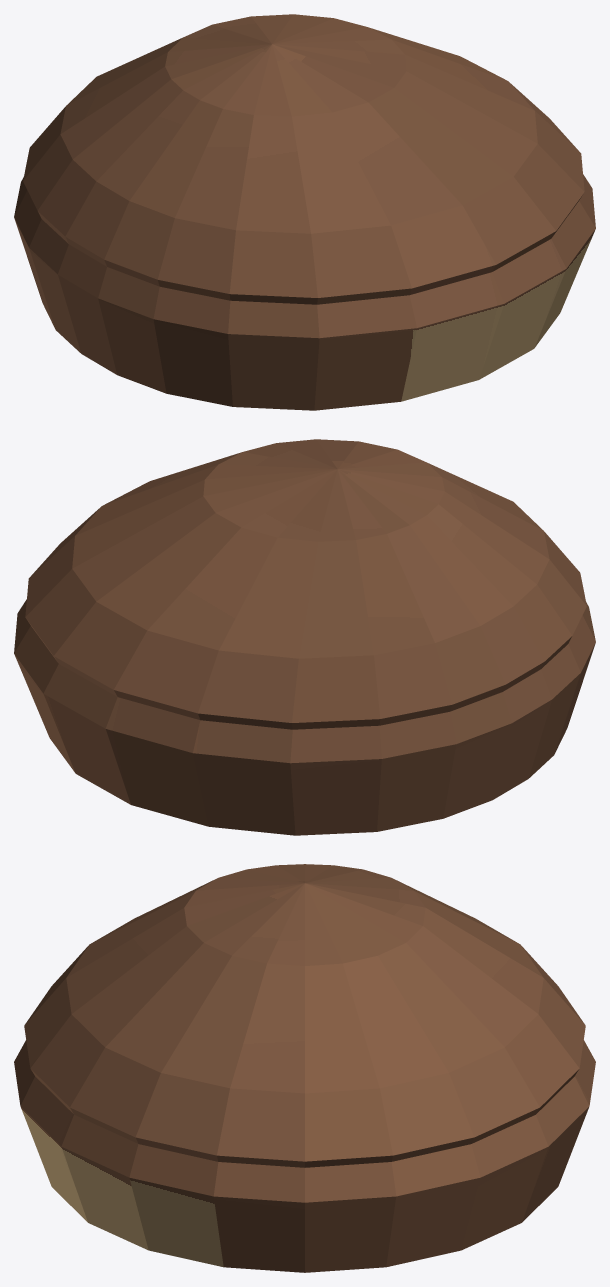
File: antique-kenzan-chestnut.glb
3 views of the same model, one above another, from view 1: azimuth 30°, elevation 25°; view 2: azimuth 150°, elevation 25°; view 3: azimuth 270°, elevation 25° (orthographic).
Visible parts, largest first — view 1: antique-kenzan-chestnut/lid-4, antique-kenzan-chestnut/lid-3, antique-kenzan-chestnut/vessel-2, antique-kenzan-chestnut/vessel-3, antique-kenzan-chestnut/lid-5, antique-kenzan-chestnut/lid-2; view 2: antique-kenzan-chestnut/lid-4, antique-kenzan-chestnut/lid-3, antique-kenzan-chestnut/vessel-2, antique-kenzan-chestnut/vessel-3, antique-kenzan-chestnut/lid-5, antique-kenzan-chestnut/lid-2; view 3: antique-kenzan-chestnut/lid-4, antique-kenzan-chestnut/lid-3, antique-kenzan-chestnut/vessel-2, antique-kenzan-chestnut/vessel-3, antique-kenzan-chestnut/lid-5, antique-kenzan-chestnut/lid-2.
Part boxes in pixels (x1,y1,x2,y2): antique-kenzan-chestnut/lid-4: (60, 27, 537, 233); antique-kenzan-chestnut/lid-3: (23, 82, 584, 297); antique-kenzan-chestnut/vessel-2: (14, 218, 595, 410); antique-kenzan-chestnut/vessel-3: (14, 174, 595, 338); antique-kenzan-chestnut/lid-5: (165, 14, 406, 116); antique-kenzan-chestnut/lid-2: (38, 195, 582, 304); antique-kenzan-chestnut/lid-4: (72, 452, 549, 658); antique-kenzan-chestnut/lid-3: (25, 507, 586, 722); antique-kenzan-chestnut/vessel-2: (14, 643, 595, 835); antique-kenzan-chestnut/vessel-3: (14, 599, 595, 763); antique-kenzan-chestnut/lid-5: (203, 439, 444, 541); antique-kenzan-chestnut/lid-2: (27, 620, 571, 729); antique-kenzan-chestnut/lid-4: (66, 879, 543, 1093); antique-kenzan-chestnut/lid-3: (24, 946, 585, 1161); antique-kenzan-chestnut/vessel-2: (21, 1107, 588, 1272); antique-kenzan-chestnut/vessel-3: (14, 1040, 595, 1202); antique-kenzan-chestnut/lid-5: (184, 864, 425, 965); antique-kenzan-chestnut/lid-2: (31, 1069, 578, 1167).
Size of the model in its own units: 0.375 by 0.2069 by 0.375.
3 materials, 3 textured.
